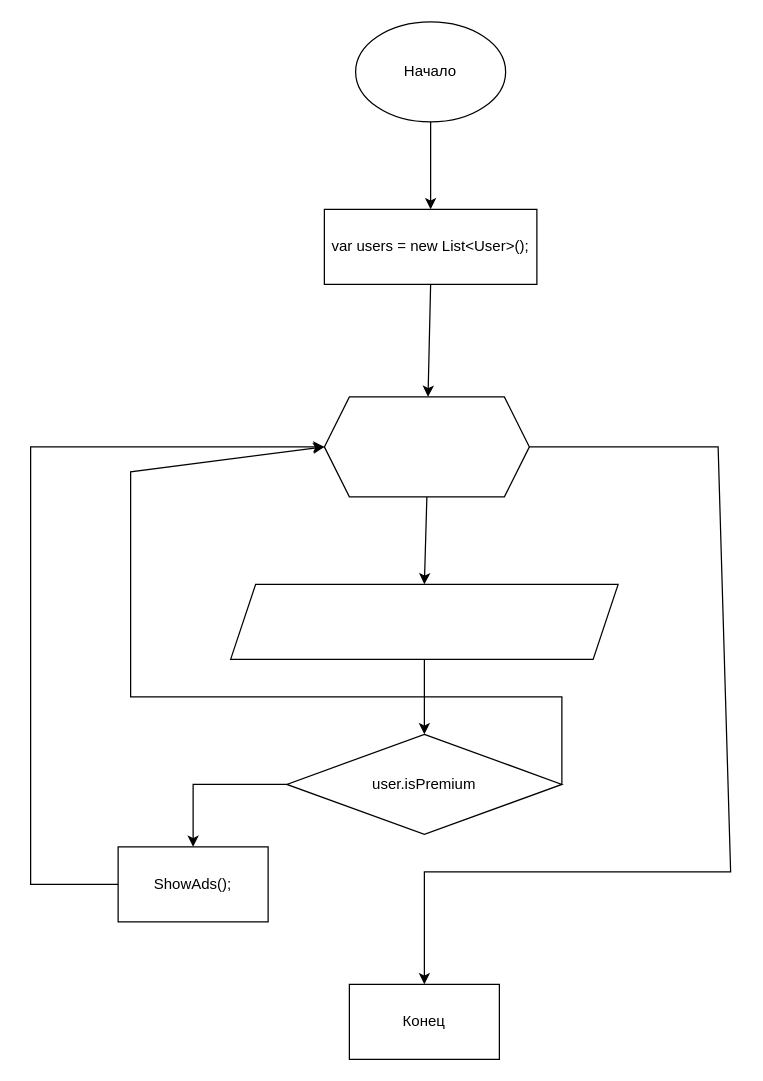
Image size: 763x1081. Some labels were removed from this diagram. Here are the shapes that lost their labels. From the top down, the centre of each, then its label:
pixel 426 446: foreach(var user in users)
pixel 423 621: ConsoleWriteline($"Здравствуйте {user.Name}");
